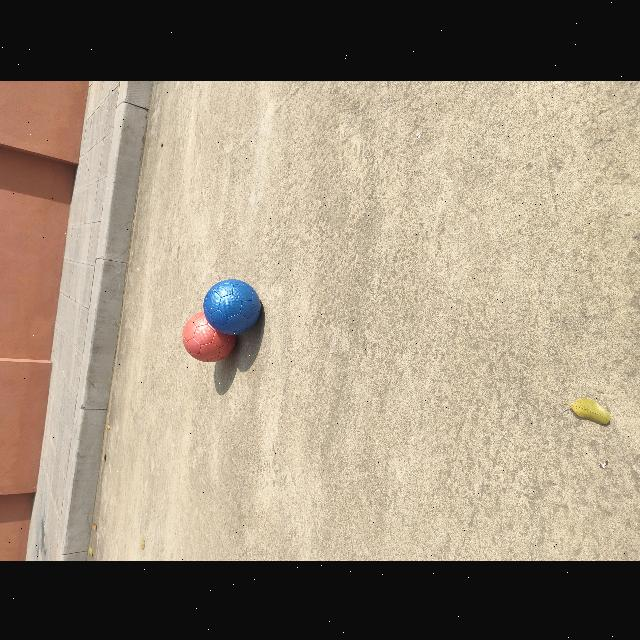R: (204, 278, 261, 334), (183, 311, 236, 361)
